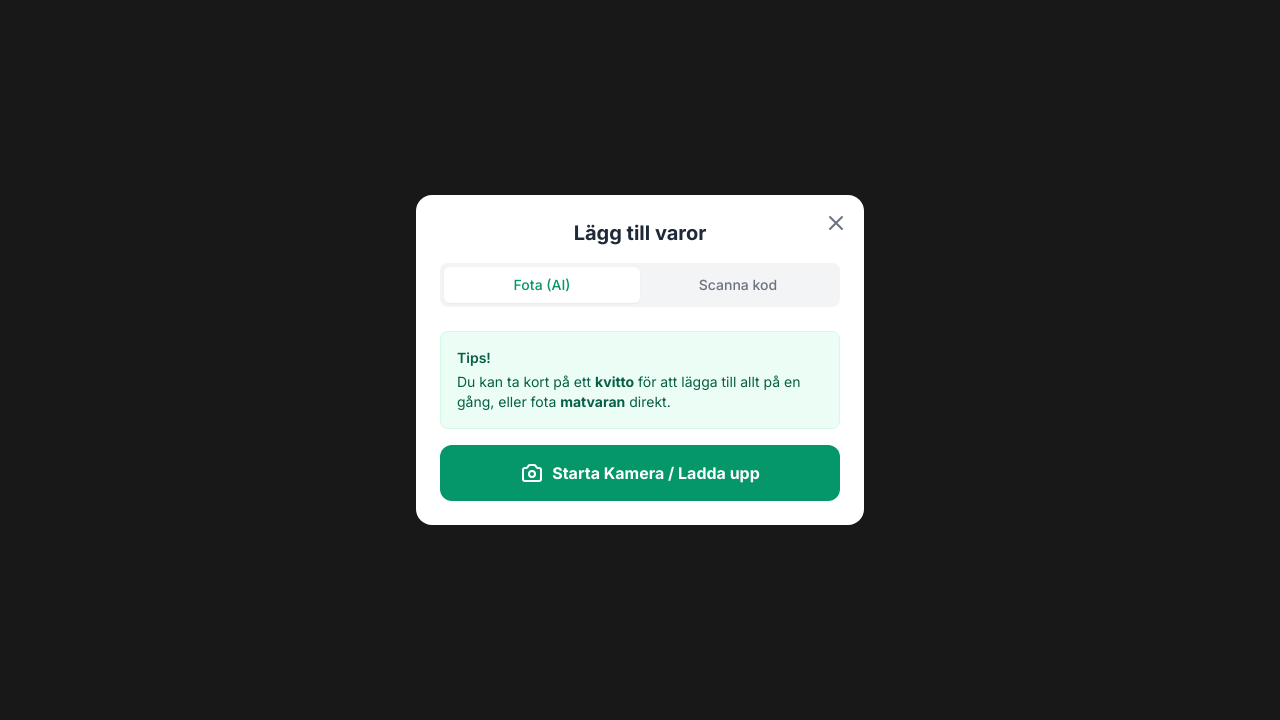
it: Scanner › switches to barcode mode when barcode button is clicked
The image size is (1280, 720).
What coordinates should you click on to do the following:
click the button "Scanna kod"
I would click on:
 (738, 285)
Its box is [640,267,836,303].
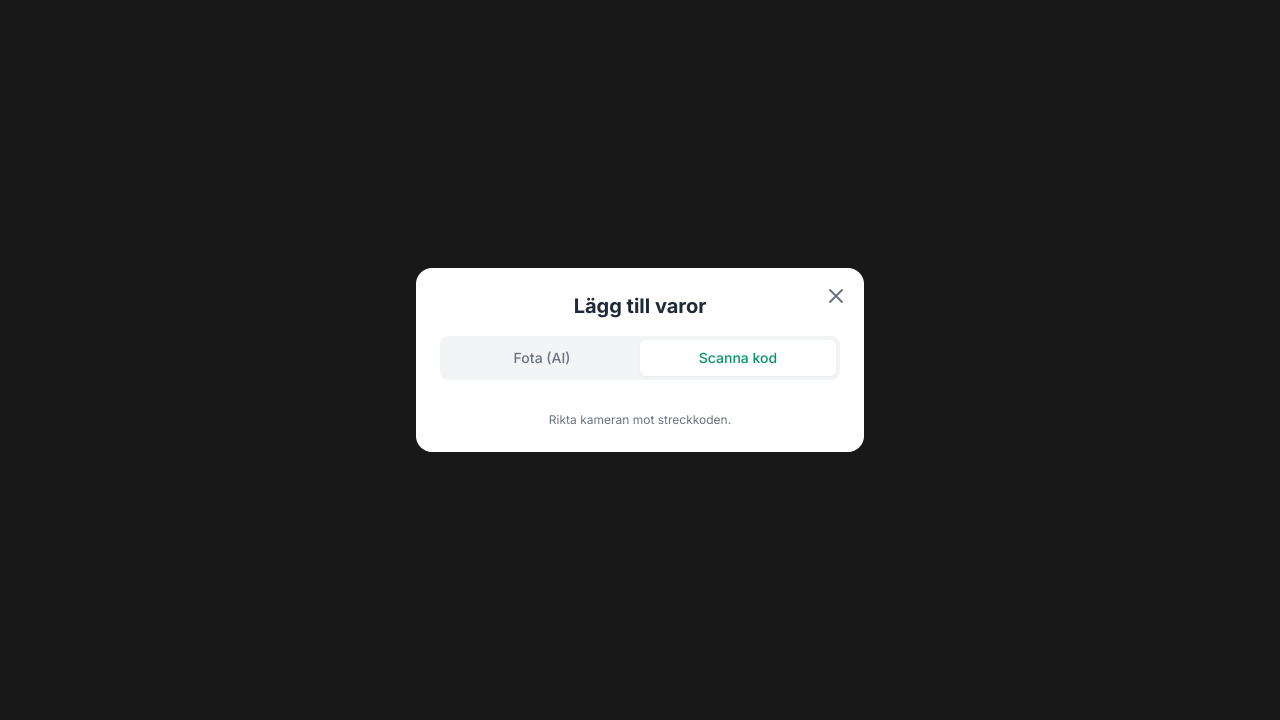
Now the text "Rikta kameran mot streckkoden." is shown, box [549,412,731,428]
